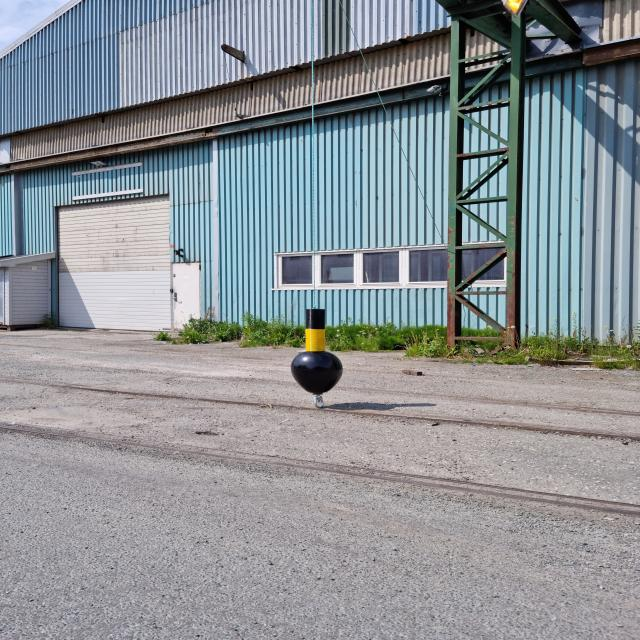east: (292, 309, 343, 394)
